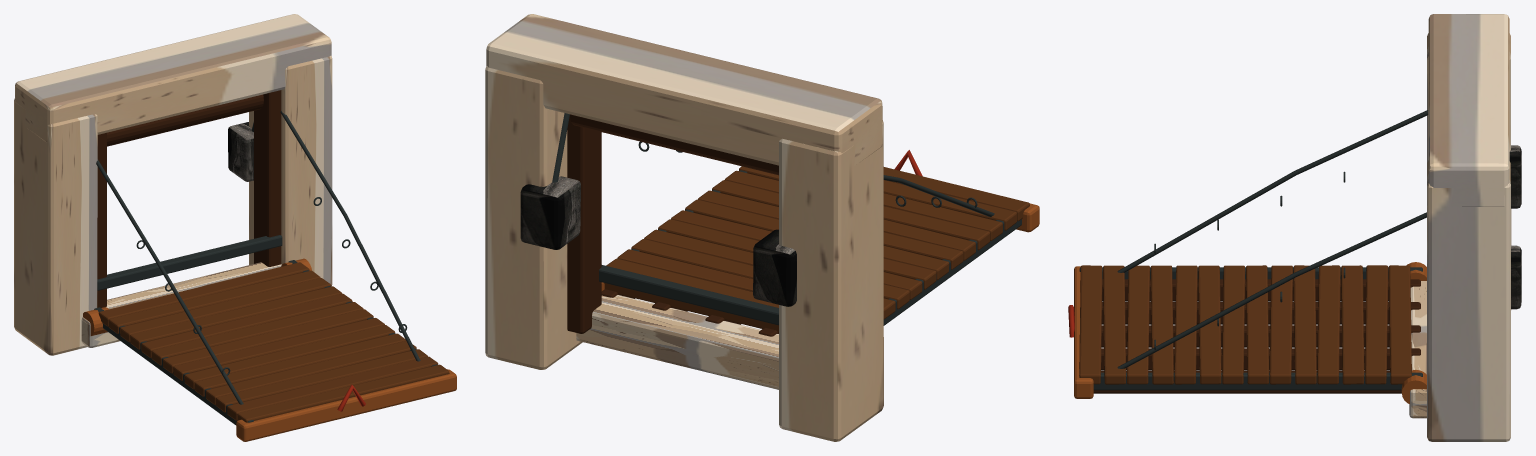
Rendered from drawbridge_LOD0.glb.
3 renders of one model, left to right at view 1: azimuth 30°, elevation 25°; view 2: azimuth 150°, elevation 25°; view 3: azimuth 270°, elevation 25°, orthographic. The views are drawn at different scales.
Visible parts, largest first — view 1: DrawbridgeGateLintel, DrawbridgeStonePier, DrawbridgeStonePier.001, DrawbridgeTimberGuide.001, DrawbridgeBronzeRamEdge, DrawbridgeLockBar, DrawbridgeCrossPlank.013, DrawbridgeCrossPlank.006, DrawbridgeCrossPlank.001, DrawbridgeCrossPlank.012, DrawbridgeWinchDrum, DrawbridgeCrossPlank.002 (+15 smaller); view 2: DrawbridgeGateLintel, DrawbridgeStonePier, DrawbridgeStonePier.001, DrawbridgePivotSill, DrawbridgeTimberGuide.001, DrawbridgeStoneCounterweight.001, DrawbridgeLockBar, DrawbridgeStoneCounterweight, DrawbridgeCrossPlank.010, DrawbridgeCrossPlank.007, DrawbridgeWinchDrum, DrawbridgeCrossPlank.008 (+13 smaller); view 3: DrawbridgeStonePier.001, DrawbridgeGateLintel, DrawbridgeIronEdge.001, DrawbridgeCrossPlank.001, DrawbridgeCrossPlank.003, DrawbridgeCrossPlank.002, DrawbridgeCrossPlank, DrawbridgeCrossPlank.012, DrawbridgeCrossPlank.013, DrawbridgeCrossPlank.004, DrawbridgeCrossPlank.009, DrawbridgeCrossPlank.006 (+19 smaller).
Boxes of the visible parts, left/top/right/bottom form: DrawbridgeGateLintel: left=15, top=14, right=331, bottom=142; DrawbridgeStonePier: left=14, top=98, right=97, bottom=355; DrawbridgeStonePier.001: left=249, top=56, right=332, bottom=286; DrawbridgeTimberGuide.001: left=254, top=90, right=281, bottom=266; DrawbridgeBronzeRamEdge: left=236, top=369, right=456, bottom=441; DrawbridgeLockBar: left=97, top=235, right=282, bottom=290; DrawbridgeCrossPlank.013: left=237, top=364, right=449, bottom=422; DrawbridgeCrossPlank.006: left=163, top=309, right=373, bottom=373; DrawbridgeCrossPlank.001: left=108, top=270, right=320, bottom=333; DrawbridgeCrossPlank.012: left=227, top=356, right=438, bottom=420; DrawbridgeWinchDrum: left=107, top=94, right=263, bottom=146; DrawbridgeCrossPlank.002: left=120, top=278, right=331, bottom=342; DrawbridgeGateLintel: left=486, top=14, right=882, bottom=165; DrawbridgeStonePier: left=779, top=120, right=883, bottom=441; DrawbridgeStonePier.001: left=485, top=66, right=582, bottom=369; DrawbridgePivotSill: left=576, top=295, right=778, bottom=389; DrawbridgeTimberGuide.001: left=567, top=115, right=601, bottom=333; DrawbridgeStoneCounterweight.001: left=520, top=176, right=580, bottom=249; DrawbridgeLockBar: left=599, top=265, right=778, bottom=325; DrawbridgeStoneCounterweight: left=753, top=229, right=796, bottom=306; DrawbridgeCrossPlank.010: left=725, top=170, right=990, bottom=250; DrawbridgeCrossPlank.007: left=685, top=199, right=949, bottom=280; DrawbridgeWinchDrum: left=570, top=114, right=778, bottom=175; DrawbridgeCrossPlank.008: left=698, top=190, right=963, bottom=269; DrawbridgeStonePier.001: left=1427, top=160, right=1510, bottom=441; DrawbridgeGateLintel: left=1428, top=14, right=1509, bottom=206; DrawbridgeIronEdge.001: left=1093, top=372, right=1422, bottom=390; DrawbridgeCrossPlank.001: left=1365, top=265, right=1388, bottom=384; DrawbridgeCrossPlank.003: left=1317, top=265, right=1340, bottom=384; DrawbridgeCrossPlank.002: left=1341, top=265, right=1364, bottom=384; DrawbridgeCrossPlank: left=1388, top=265, right=1411, bottom=384; DrawbridgeCrossPlank.012: left=1103, top=265, right=1125, bottom=384; DrawbridgeCrossPlank.013: left=1079, top=265, right=1102, bottom=384; DrawbridgeCrossPlank.004: left=1293, top=265, right=1316, bottom=384; DrawbridgeCrossPlank.009: left=1174, top=265, right=1197, bottom=384; DrawbridgeCrossPlank.006: left=1246, top=265, right=1269, bottom=384.
Size of the model in its own units: 5.2 by 4.38 by 6.47.
7 materials, 2 textured.
